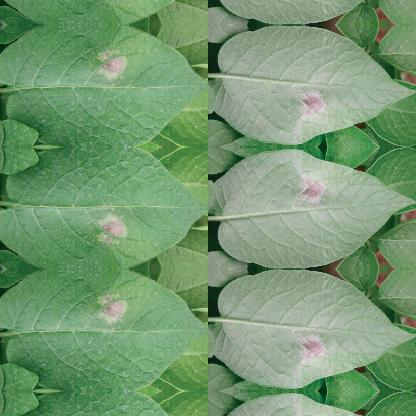Late-Blight: (212, 25, 414, 146), (212, 146, 414, 266), (212, 270, 414, 390), (1, 147, 195, 265), (1, 27, 195, 145), (1, 271, 195, 389), (212, 389, 414, 416), (1, 391, 195, 416)
